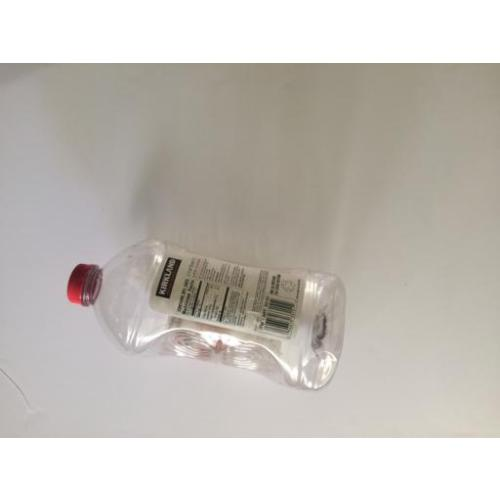plastic: (67, 242, 344, 390)
